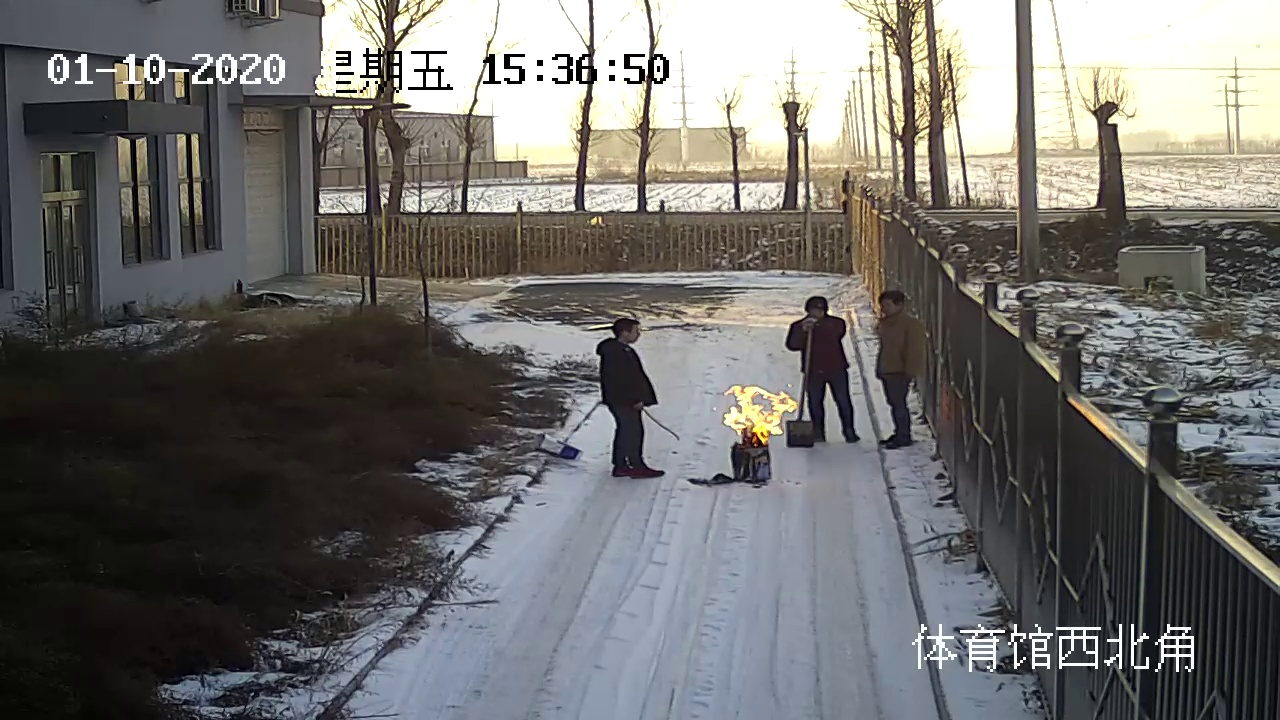fire: (719, 377, 795, 451)
